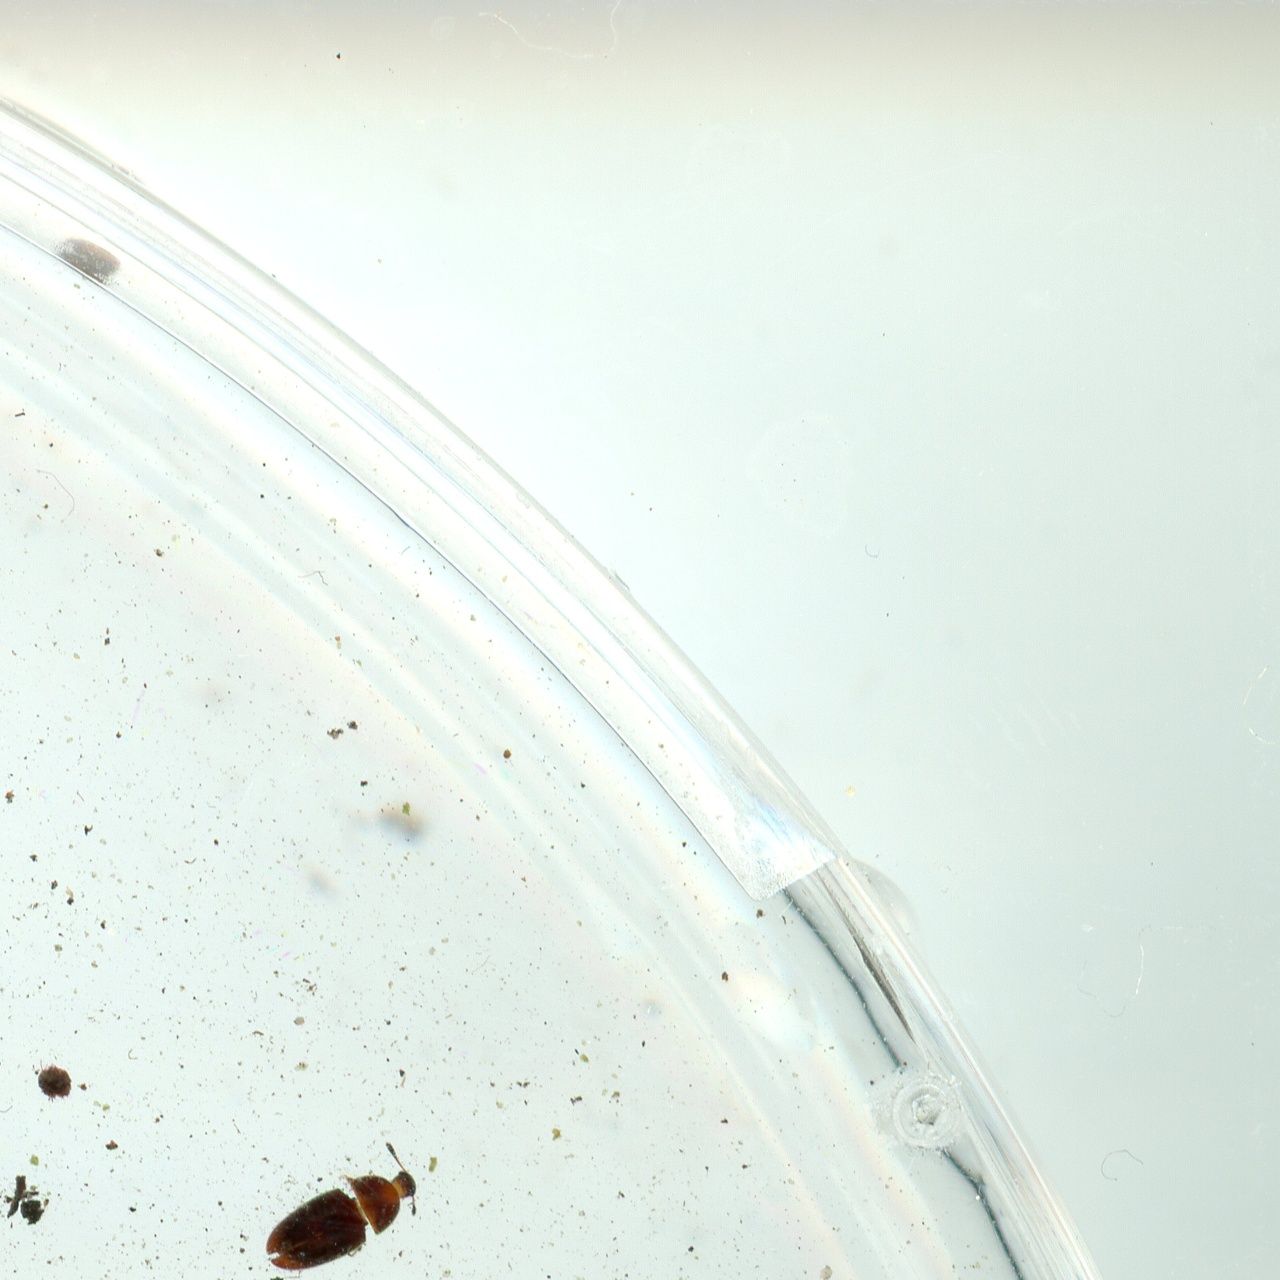arthropod: (239, 1132, 438, 1280), (265, 1142, 419, 1271)
